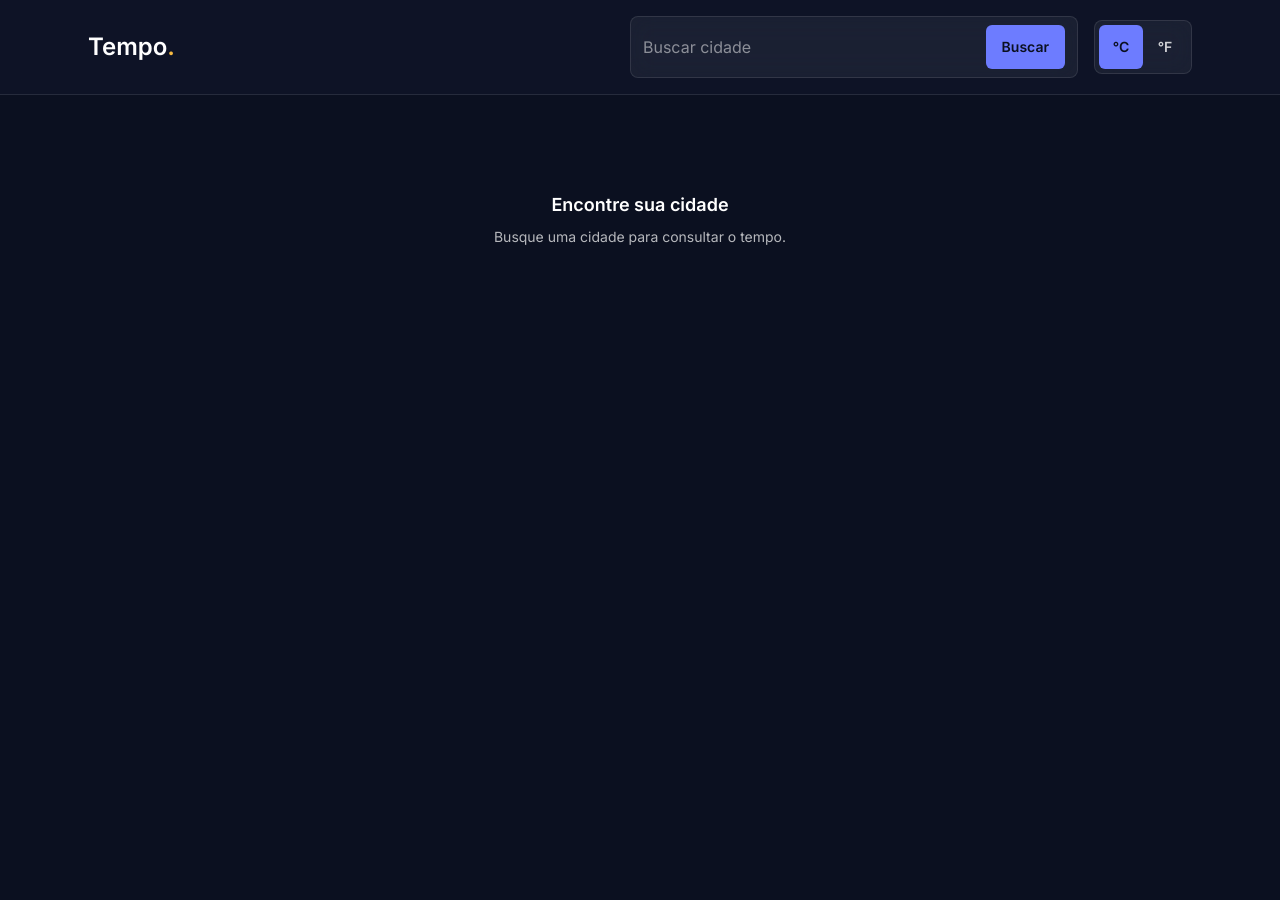
Scenario: App com Open-Meteo › remove os dados anteriores em uma nova busca sem correspondencia e permite buscar de novo
The width and height of the screenshot is (1280, 900).
Type "Recife" into the search field labelled "Buscar cidade".
click(810, 47); type("Recife")  # box [643,35,978,59]
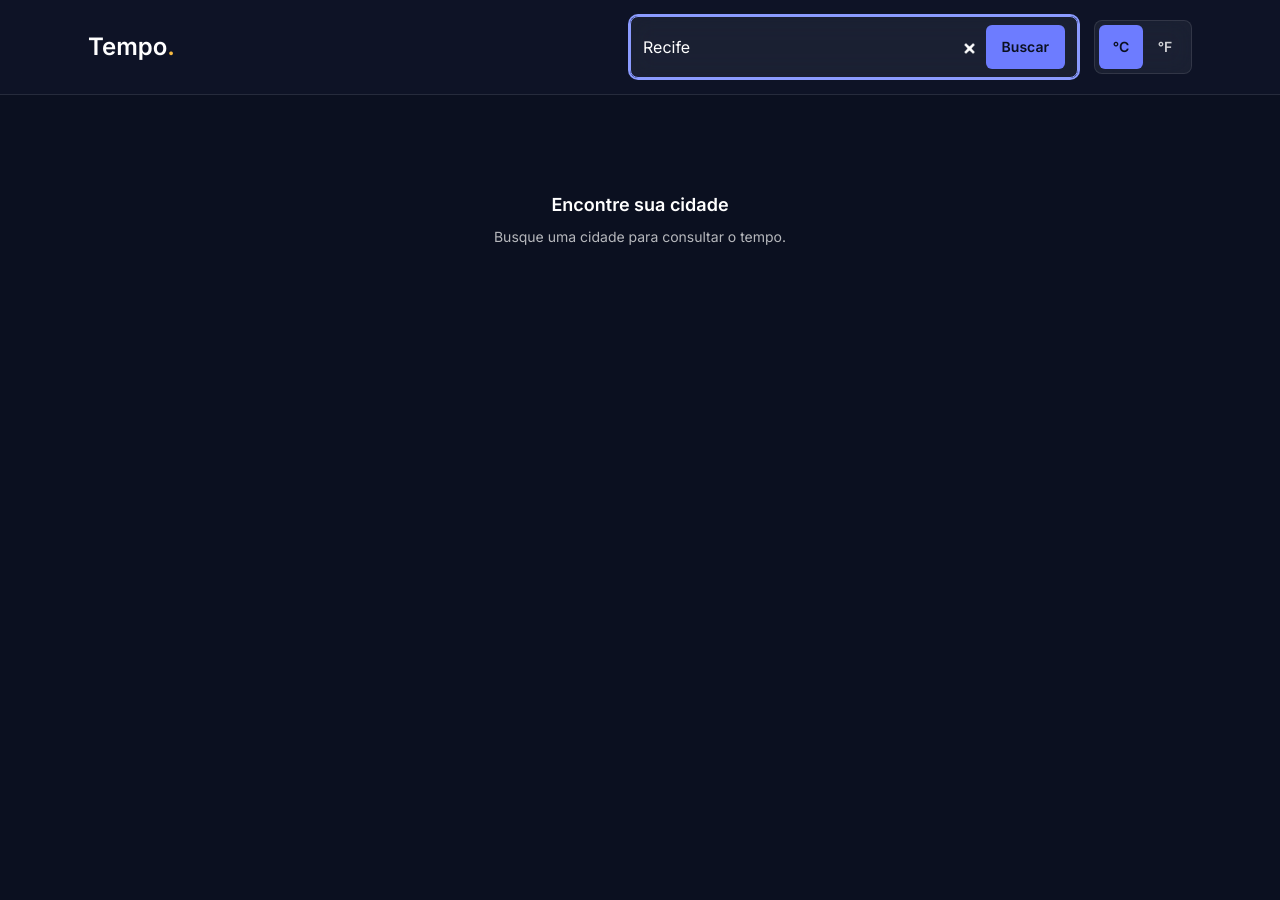
Click the button "Buscar".
click(1025, 47)  # box [986,25,1065,69]
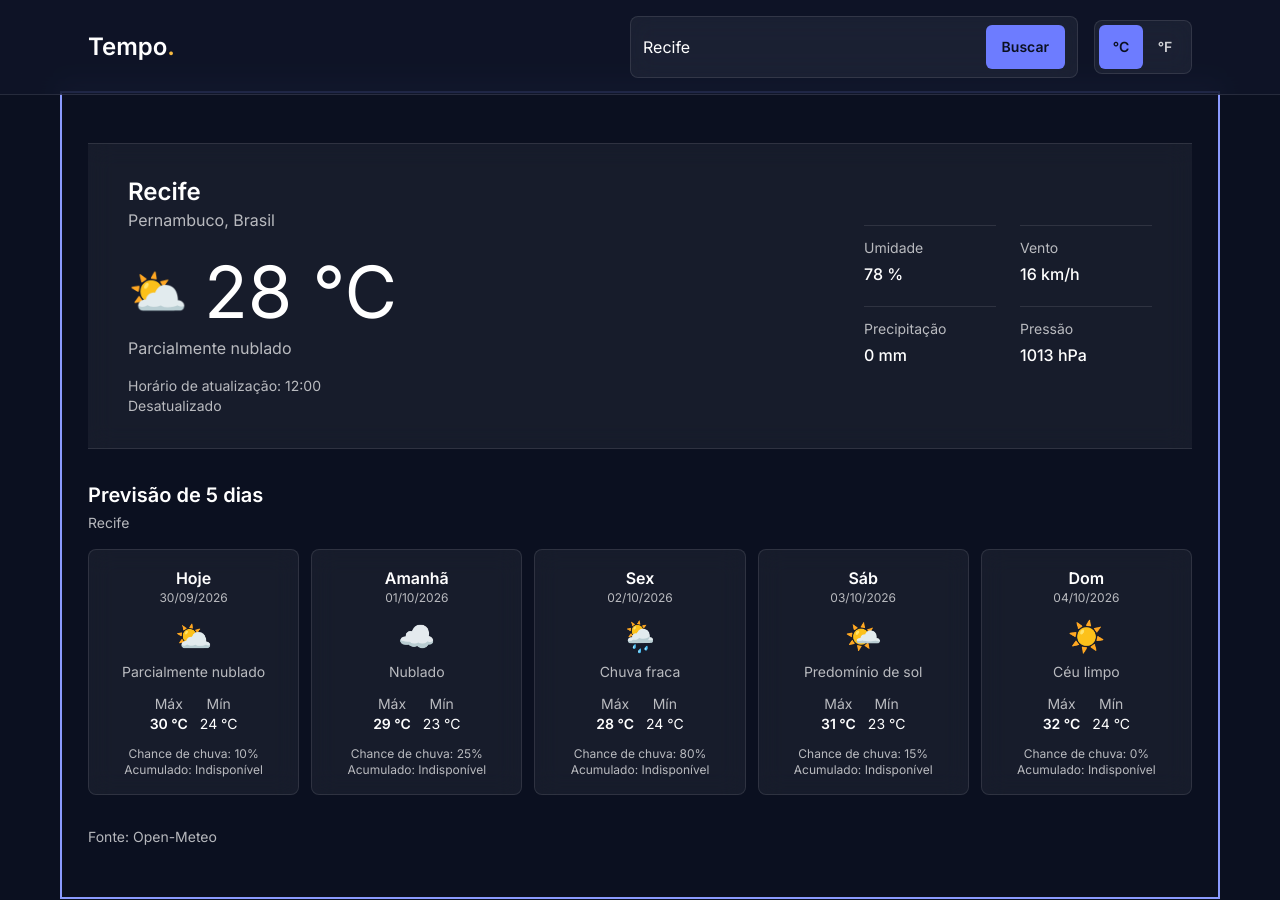
Expected: the element named "Clima atual" is shown, [88,143,1192,449]
Replace the text in the search field named "Buscar cidade" with "Lisboa" at (810, 47), box [643,35,978,59]
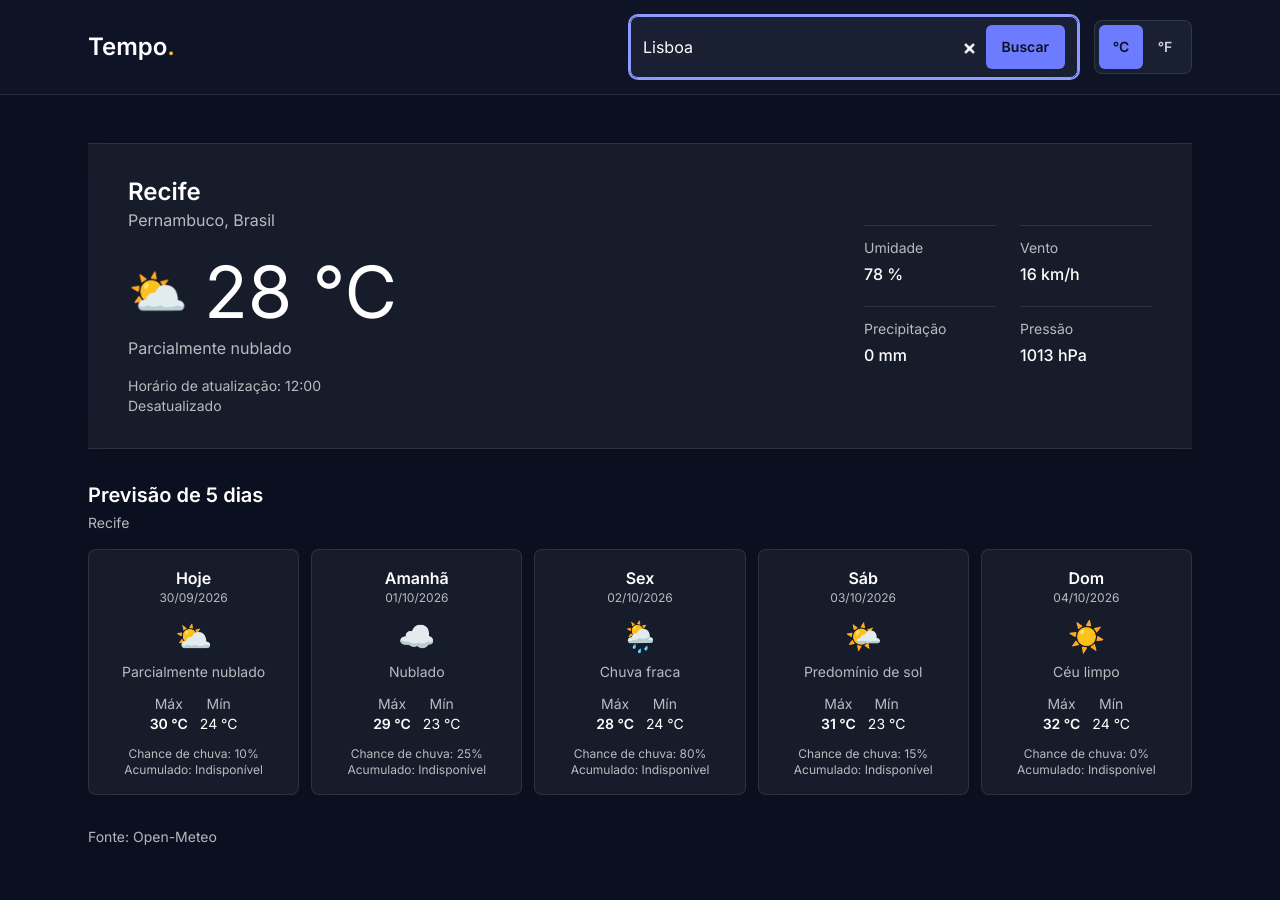
Click the button "Buscar".
click(1025, 47)  # box [986,25,1065,69]
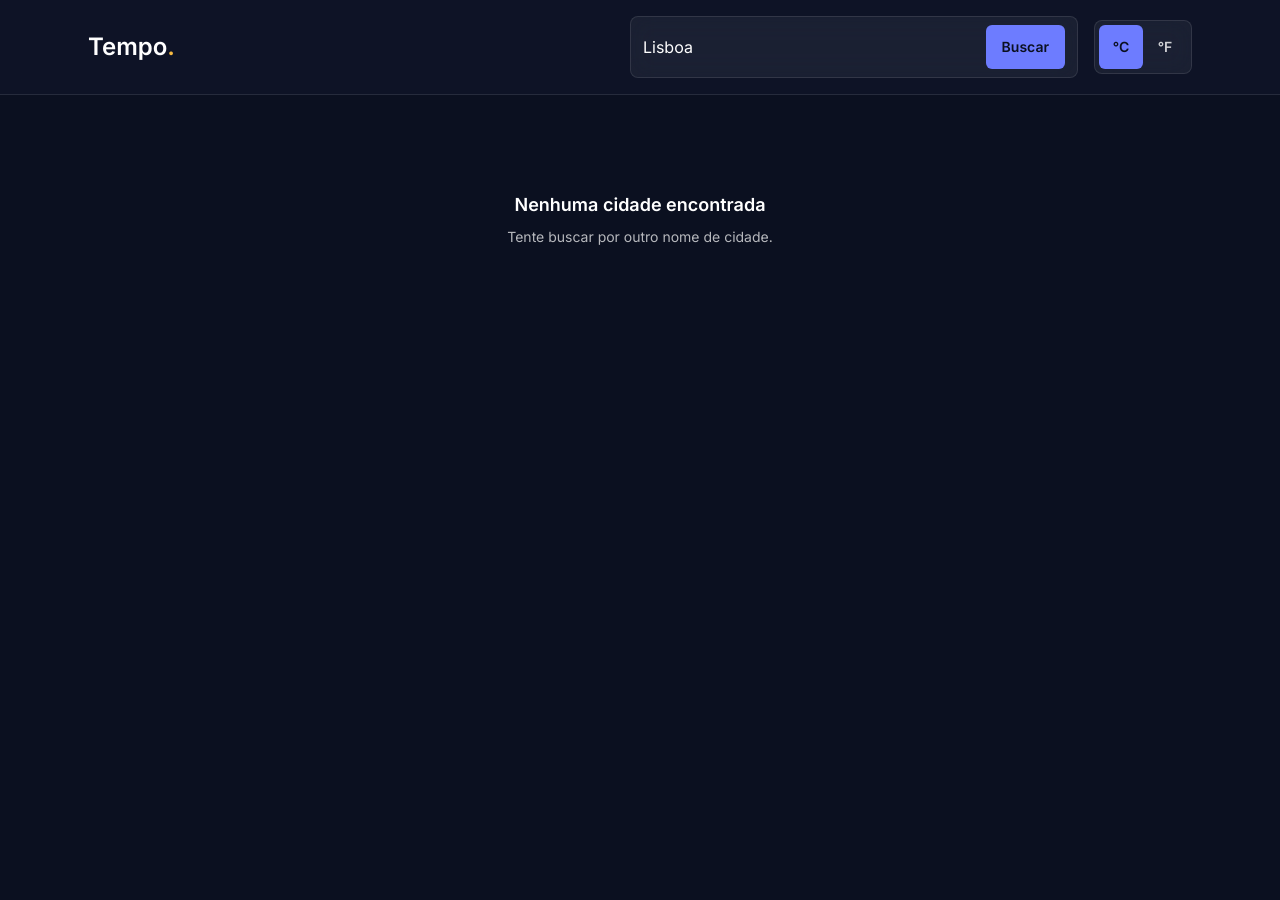
Expected: the heading "Nenhuma cidade encontrada" is shown, [514,191,766,219]
Replace the text in the search field named "Buscar cidade" with "Recife" at (810, 47), box [643,35,978,59]
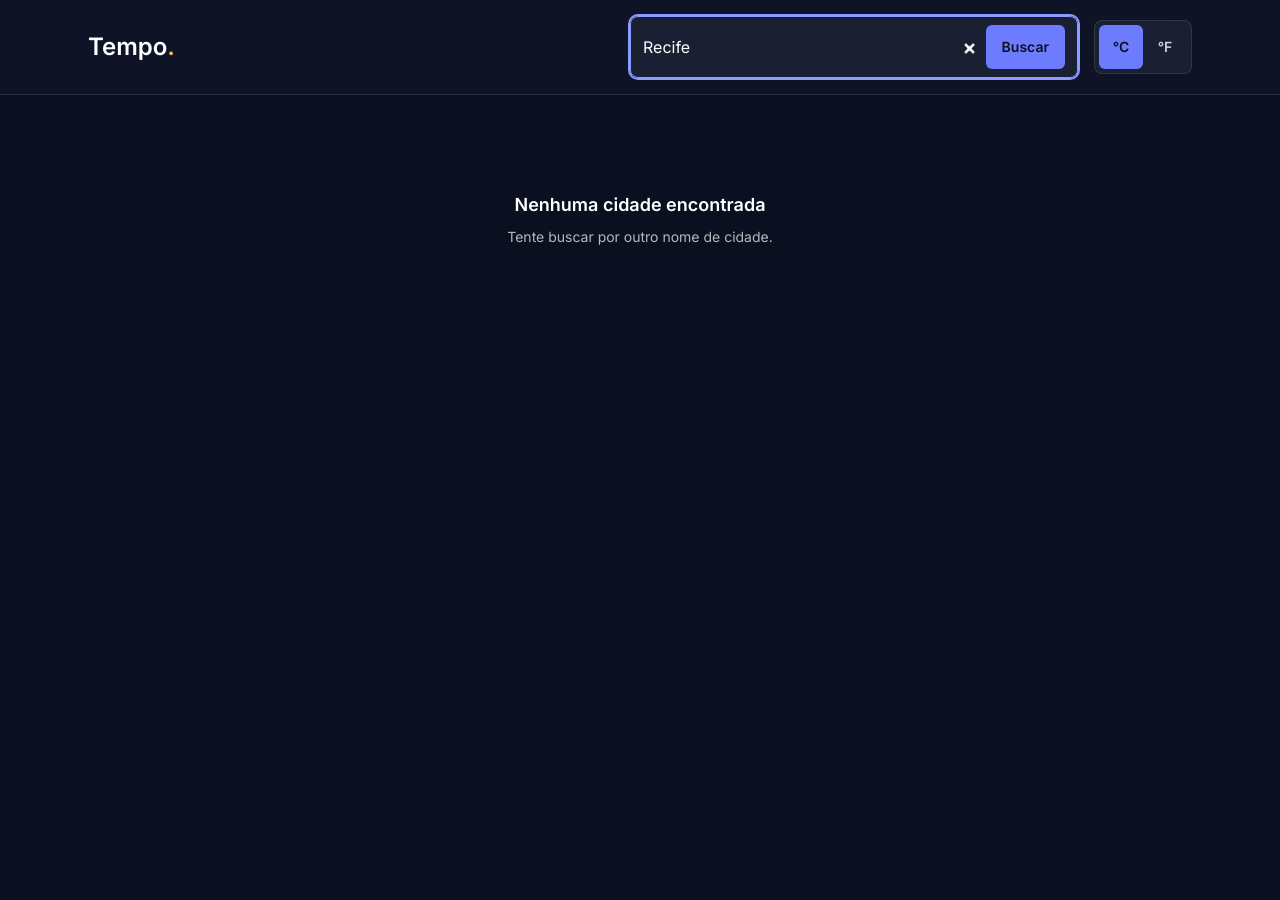
Press Enter
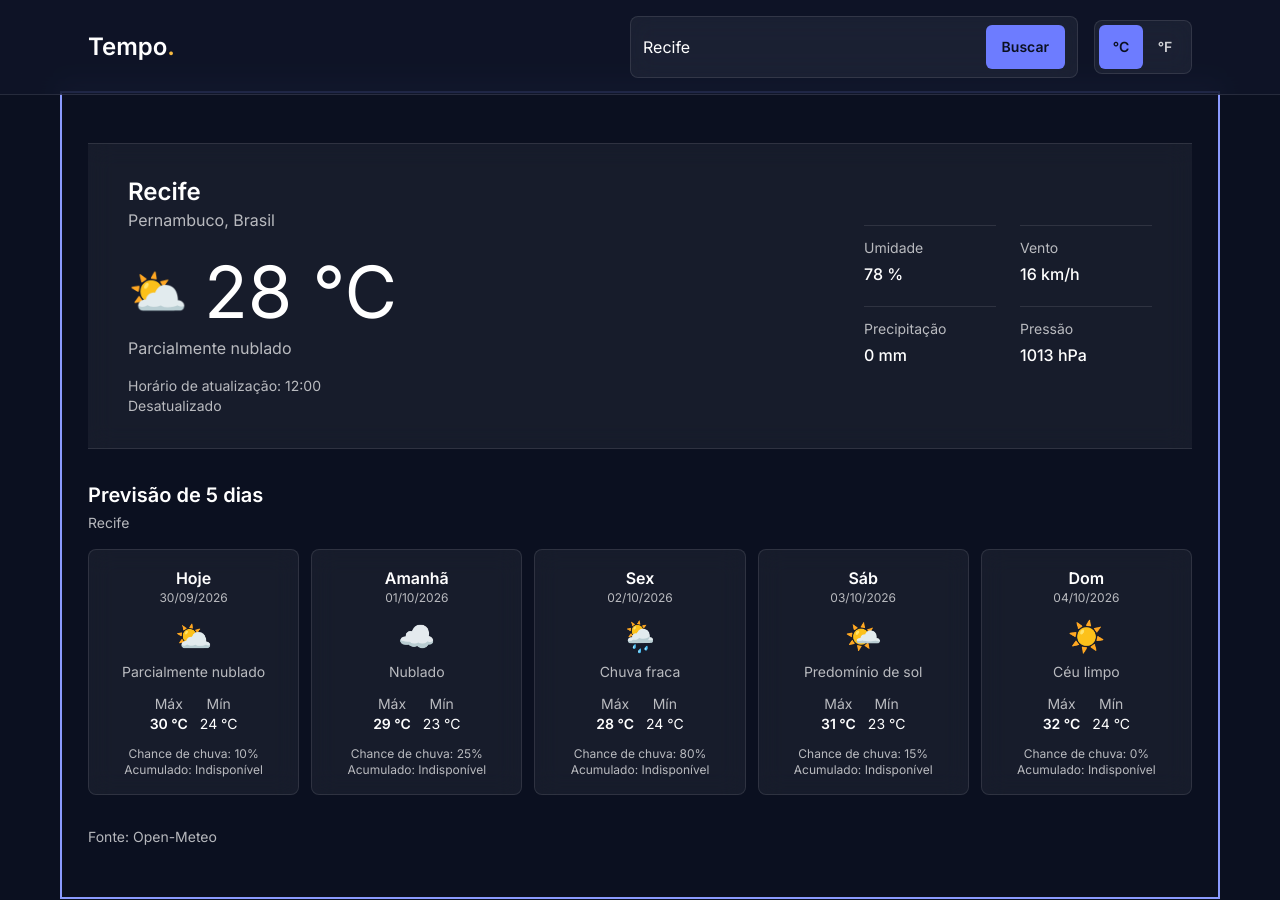
Expected: the element named "Clima atual" is shown, [88,143,1192,449]
